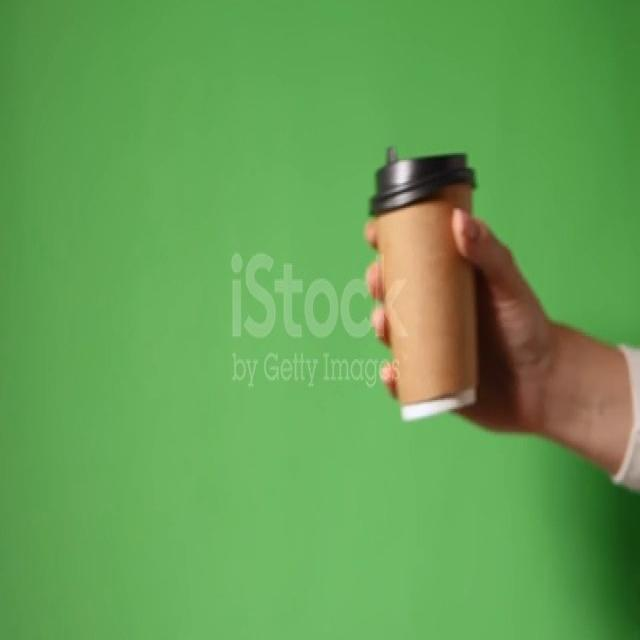cup: (367, 150, 482, 426)
